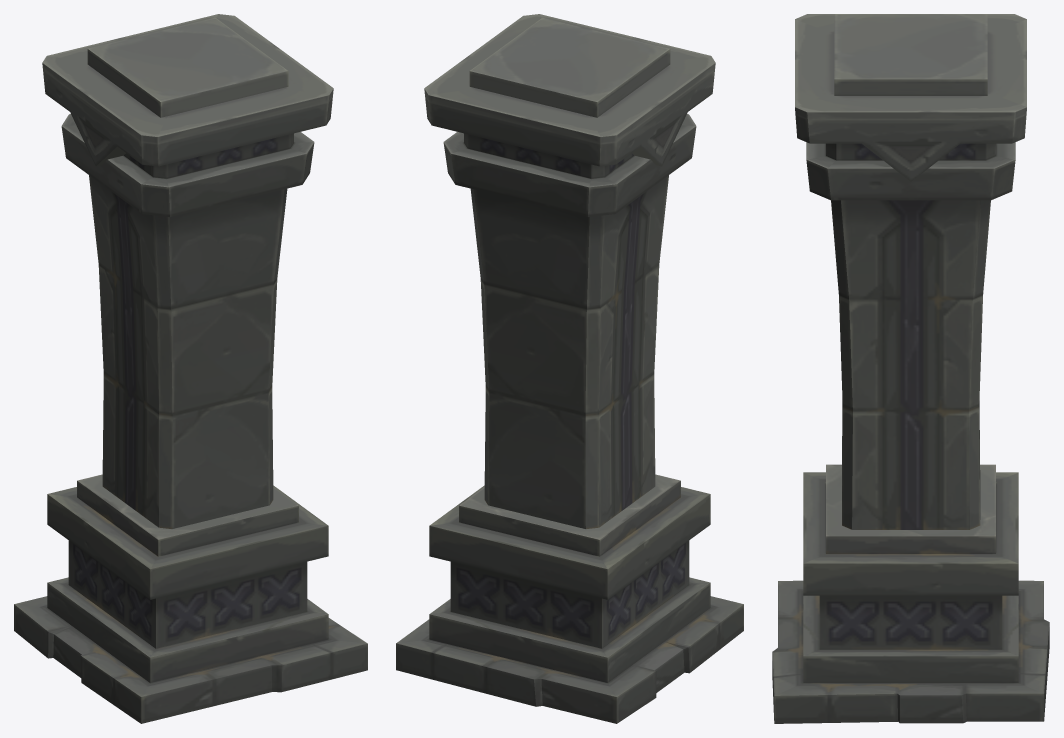
File: sc_dungeon_moshenta_zhuzi_001.FBX
3 renders of one model, left to right at view 1: azimuth 30°, elevation 25°; view 2: azimuth 150°, elevation 25°; view 3: azimuth 270°, elevation 25°, orthographic. The views are drawn at different scales.
Parts seen in each view (by area): view 1: sc_dungeon_moshenta_zhuzi_001; view 2: sc_dungeon_moshenta_zhuzi_001; view 3: sc_dungeon_moshenta_zhuzi_001.
Part boxes in pixels (x1,y1,x2,y2): sc_dungeon_moshenta_zhuzi_001: [14, 14, 367, 723]; sc_dungeon_moshenta_zhuzi_001: [396, 14, 743, 723]; sc_dungeon_moshenta_zhuzi_001: [772, 14, 1049, 723].
Size of the model in its own units: 2.65 by 6.57 by 2.67.
